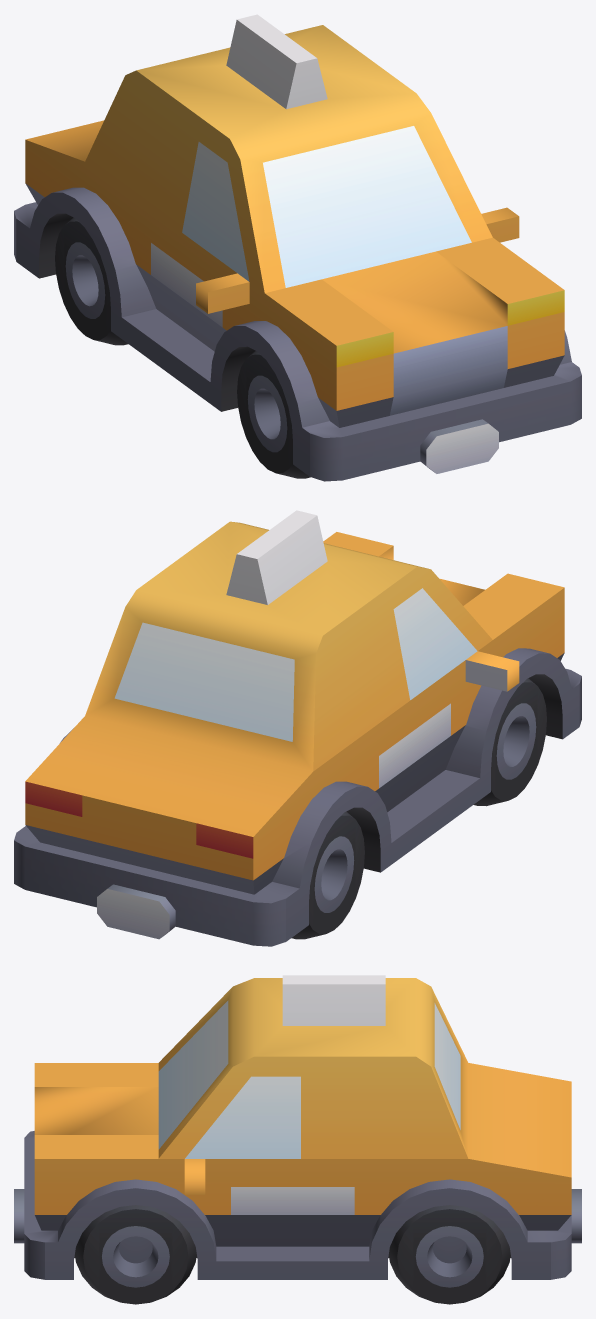
File: taxi.glb
3 views of the same model, one above another, from view 1: azimuth 30°, elevation 25°; view 2: azimuth 150°, elevation 25°; view 3: azimuth 270°, elevation 25° (orthographic). The views are drawn at different scales.
Parts seen in each view (by area): view 1: body; view 2: body; view 3: body.
Boxes of the visible parts, x1,y1,x2,y2 form: body: [14, 14, 581, 481]; body: [14, 510, 581, 946]; body: [14, 975, 581, 1304].
Size of the model in its own units: 1.5 by 1.5 by 2.75.
1 material, 1 textured.
